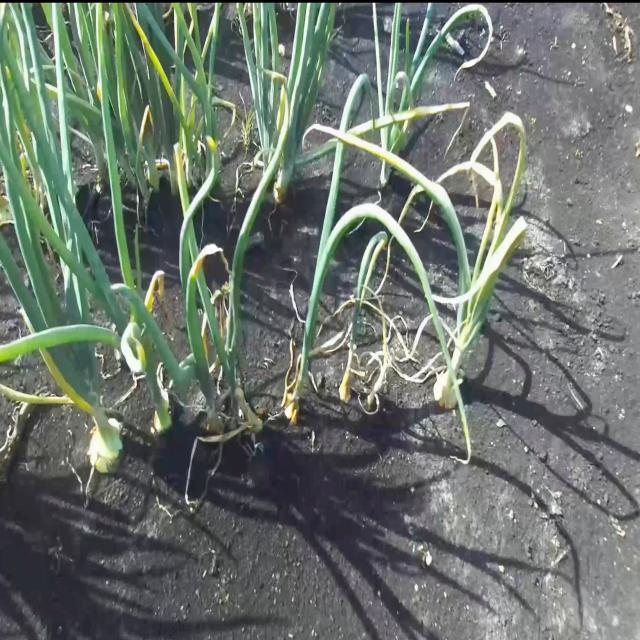onion: (85, 415, 126, 481), (432, 364, 464, 418), (149, 406, 173, 439)
